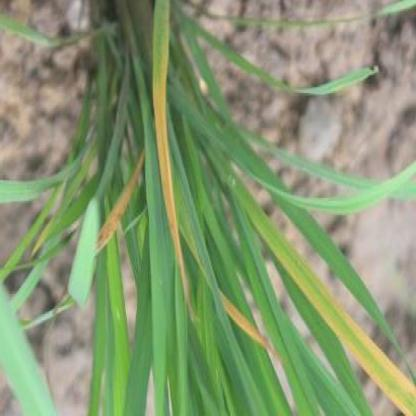Tungro: (240, 188, 416, 416), (153, 1, 189, 312)
